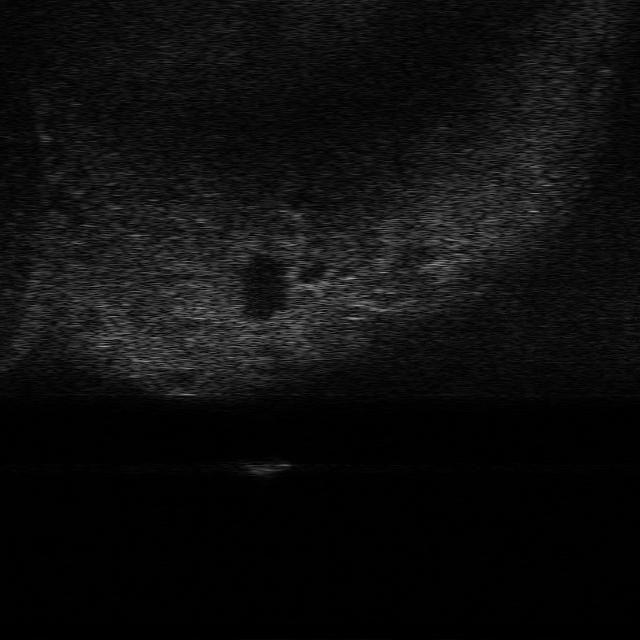cube: (235, 458, 296, 477)
